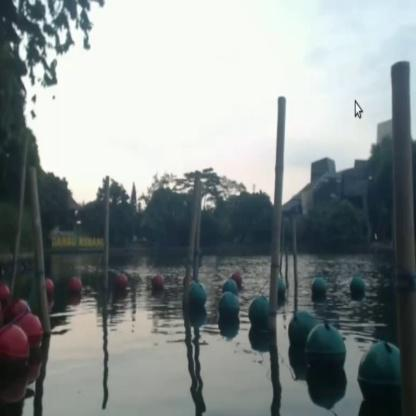green_buoy: (358, 340, 401, 412), (306, 324, 347, 379), (292, 312, 314, 354), (219, 294, 242, 328), (247, 298, 267, 334), (187, 282, 206, 314), (309, 277, 328, 303), (348, 275, 366, 302), (221, 278, 238, 298), (277, 278, 287, 305)
red_buoy: (0, 333, 30, 371), (28, 322, 44, 358), (66, 272, 85, 298), (115, 273, 130, 298), (150, 271, 162, 296), (16, 303, 32, 319), (0, 280, 9, 301), (46, 279, 54, 299), (222, 268, 226, 289)
